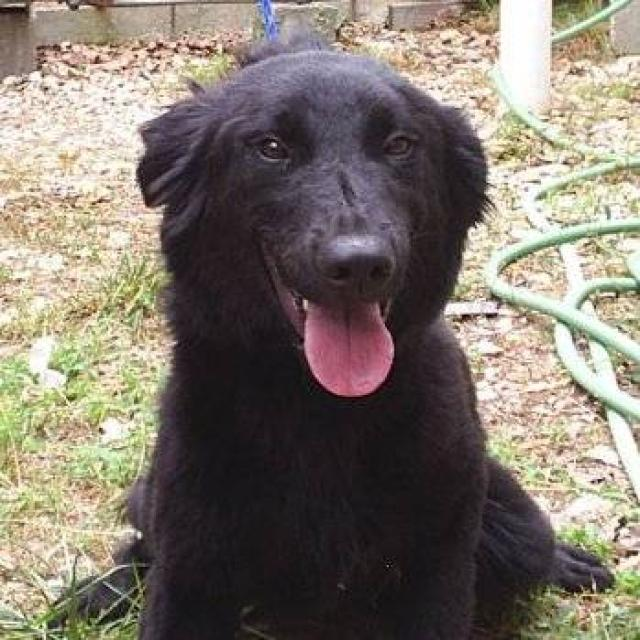dog: (44, 28, 616, 638)
